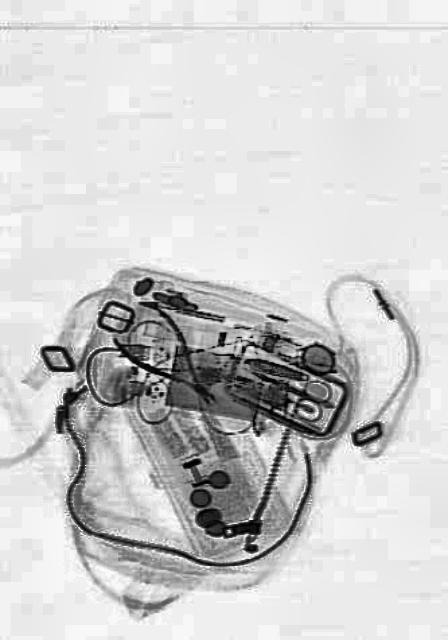Pliers: (108, 286, 228, 429)
Scissors: (243, 350, 331, 428)
